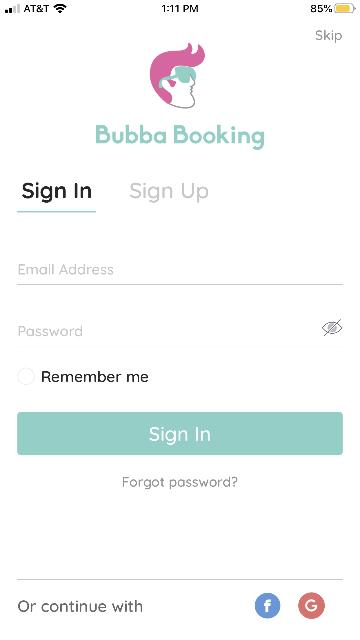CheckedTextView: (18, 368, 148, 384)
EditText: (17, 320, 342, 346), (18, 264, 342, 284)
Icon: (322, 320, 342, 336)
Image: (150, 44, 204, 108)
ImageButton: (298, 593, 324, 619), (255, 592, 280, 618)
Multi_Tab: (17, 176, 209, 212)
Text: (96, 124, 264, 150), (130, 183, 208, 203), (18, 600, 142, 612), (123, 476, 237, 489), (23, 182, 91, 202), (42, 370, 148, 382), (150, 426, 210, 446), (18, 264, 112, 274), (18, 326, 82, 336), (315, 30, 341, 42)
TextButton: (17, 411, 342, 455)
UpperTaskBar: (0, 0, 360, 14)
